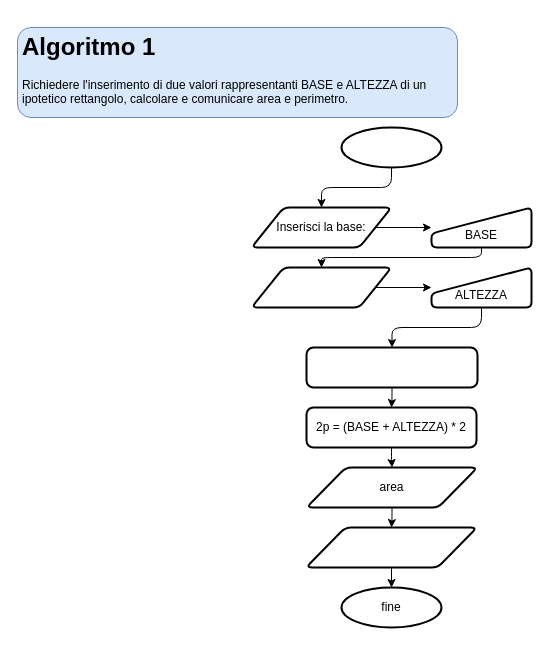
Some shapes in this 550 by 645 pixel diagram are drawn without their labels. The shapes that lost their labels are listed below. From the top down, each one's box as (x1, y1, x2, y2) in pixels, then its label:
(340, 126, 442, 168): inizio
(250, 266, 392, 308): Inserisci l'altezza:
(305, 346, 478, 388): area = BASE * ALTEZZA
(304, 526, 478, 568): 2p
